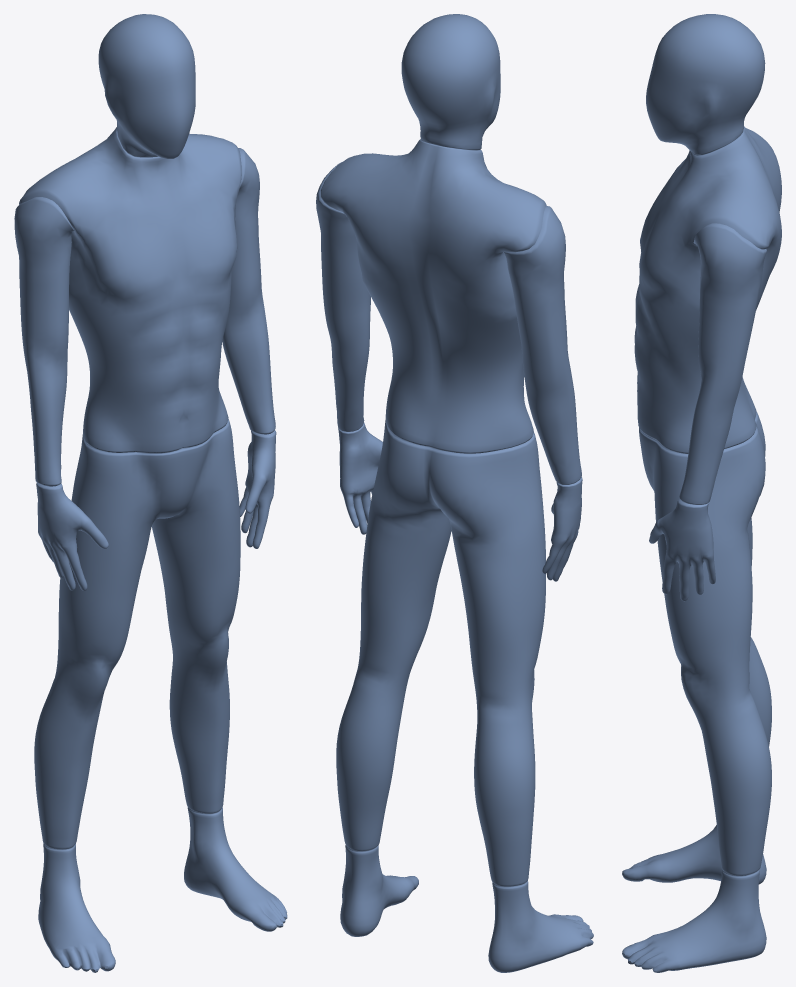
The model's file is body1.glb.
3 renders of one model, left to right at view 1: azimuth 30°, elevation 25°; view 2: azimuth 150°, elevation 25°; view 3: azimuth 270°, elevation 25°, orthographic.
Visible parts, largest first — view 1: /Users/changjunjie_macbook/Work/Model/V-R MODEL.obj; view 2: /Users/changjunjie_macbook/Work/Model/V-R MODEL.obj; view 3: /Users/changjunjie_macbook/Work/Model/V-R MODEL.obj.
Boxes of the visible parts, x1=… form: /Users/changjunjie_macbook/Work/Model/V-R MODEL.obj: x1=14, y1=14, x2=287, y2=972; /Users/changjunjie_macbook/Work/Model/V-R MODEL.obj: x1=316, y1=14, x2=593, y2=972; /Users/changjunjie_macbook/Work/Model/V-R MODEL.obj: x1=622, y1=14, x2=781, y2=972.
Bounding box in the file's own units: 0.000483 × 0.00177 × 0.000284.
